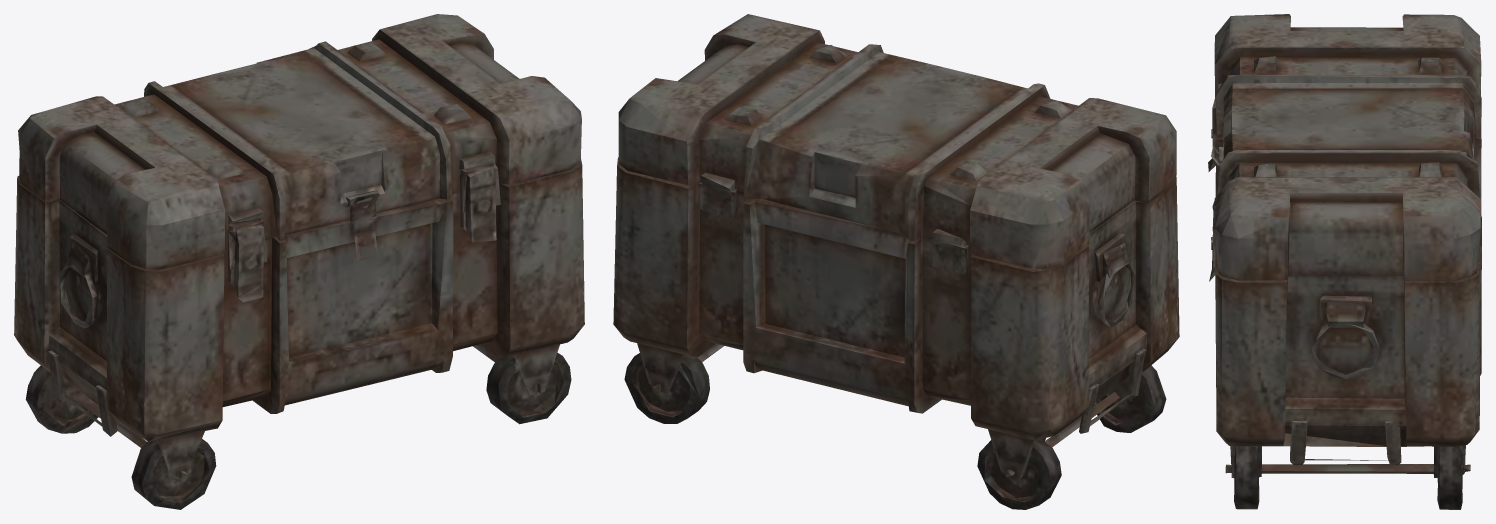
The model's file is capture.supply_crate.glb.
The picture shows the model from 3 angles, left to right: view 1: azimuth 30°, elevation 25°; view 2: azimuth 150°, elevation 25°; view 3: azimuth 270°, elevation 25°; orthographic projection. The views are drawn at different scales.
Parts seen in each view (by area): view 1: body; view 2: body; view 3: body.
Boxes of the visible parts, x1,y1,x2,y2 form: body: (14,14,584,509); body: (613,14,1179,509); body: (1208,14,1481,509).
Size of the model in its own units: 0.85 by 0.5825 by 0.4655.
1 material, 1 textured.
